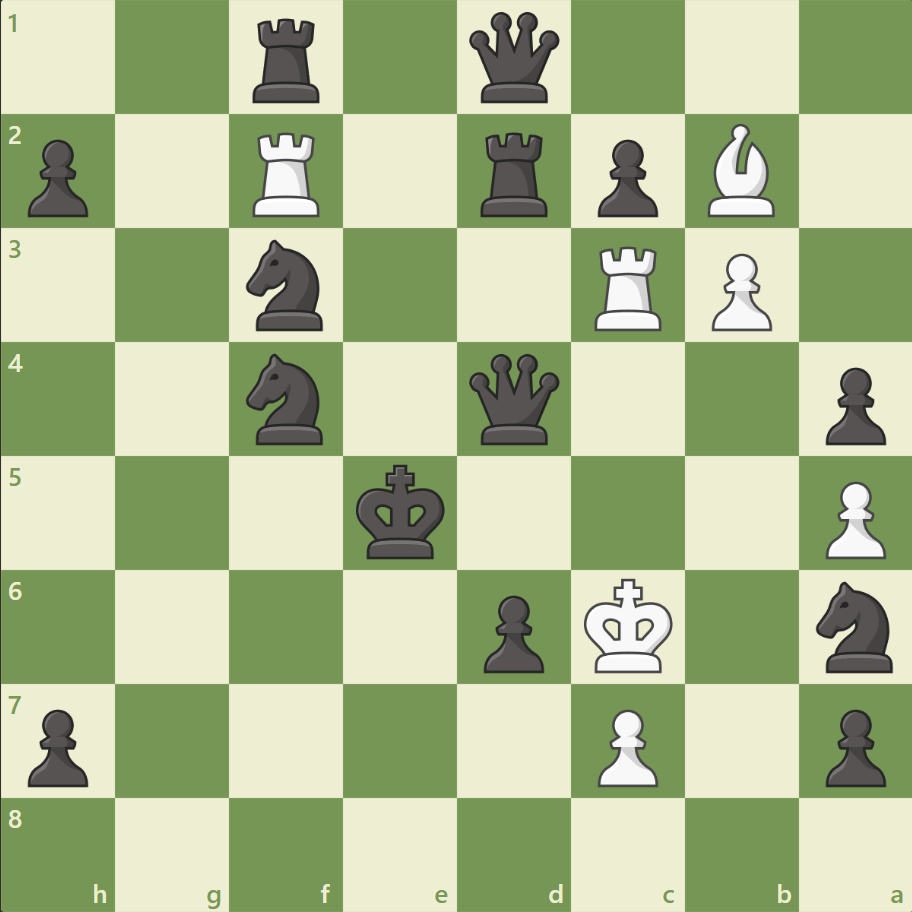B: (698, 120, 782, 222)
K: (579, 571, 679, 679)
P: (701, 246, 776, 337), (588, 700, 662, 791), (815, 473, 889, 564)
R: (587, 239, 670, 336), (246, 125, 329, 222)
k: (351, 458, 451, 566)
n: (238, 234, 335, 337), (806, 575, 903, 677), (238, 348, 335, 450)
p: (20, 700, 95, 791), (474, 586, 549, 677), (20, 132, 95, 223), (815, 700, 889, 791), (815, 359, 889, 450), (588, 132, 662, 223)
q: (464, 349, 563, 449), (464, 9, 563, 108)
r: (473, 125, 556, 222), (246, 12, 329, 109)
